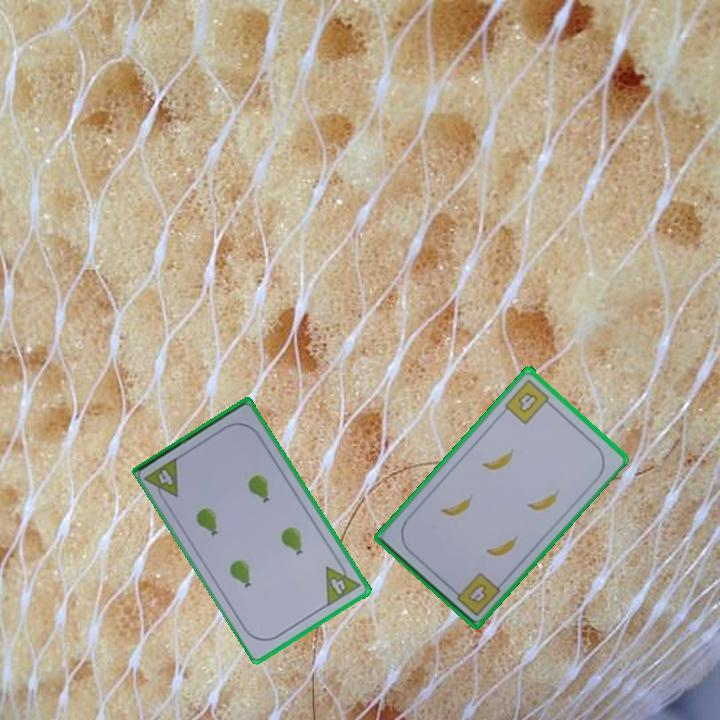4b: (501, 375, 556, 427), (464, 579, 491, 606)
4p: (322, 556, 363, 609), (142, 453, 182, 506)
